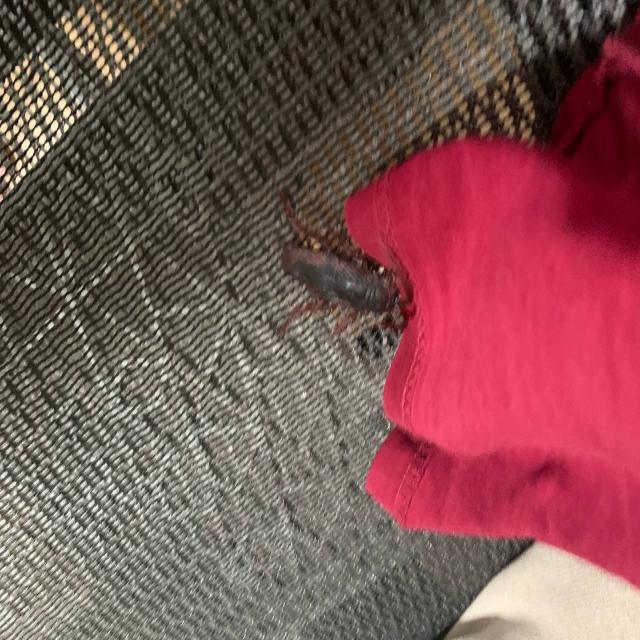Cockroach: (265, 195, 419, 361)
